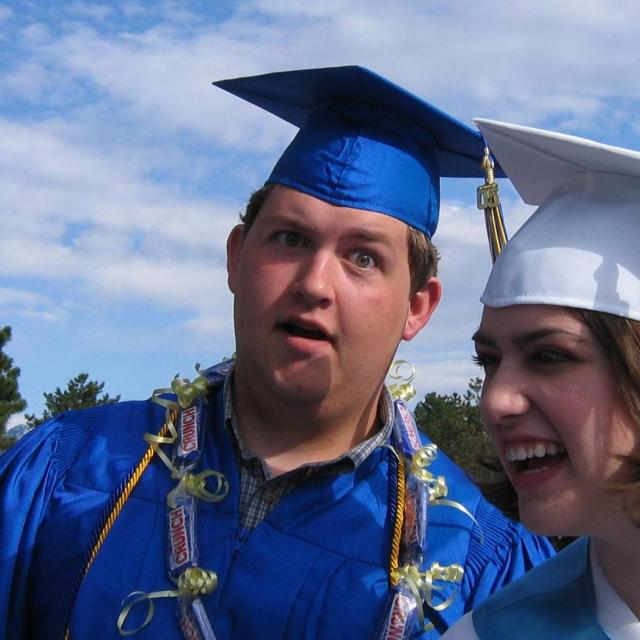no-glass: (256, 227, 387, 280), (453, 340, 588, 380)
